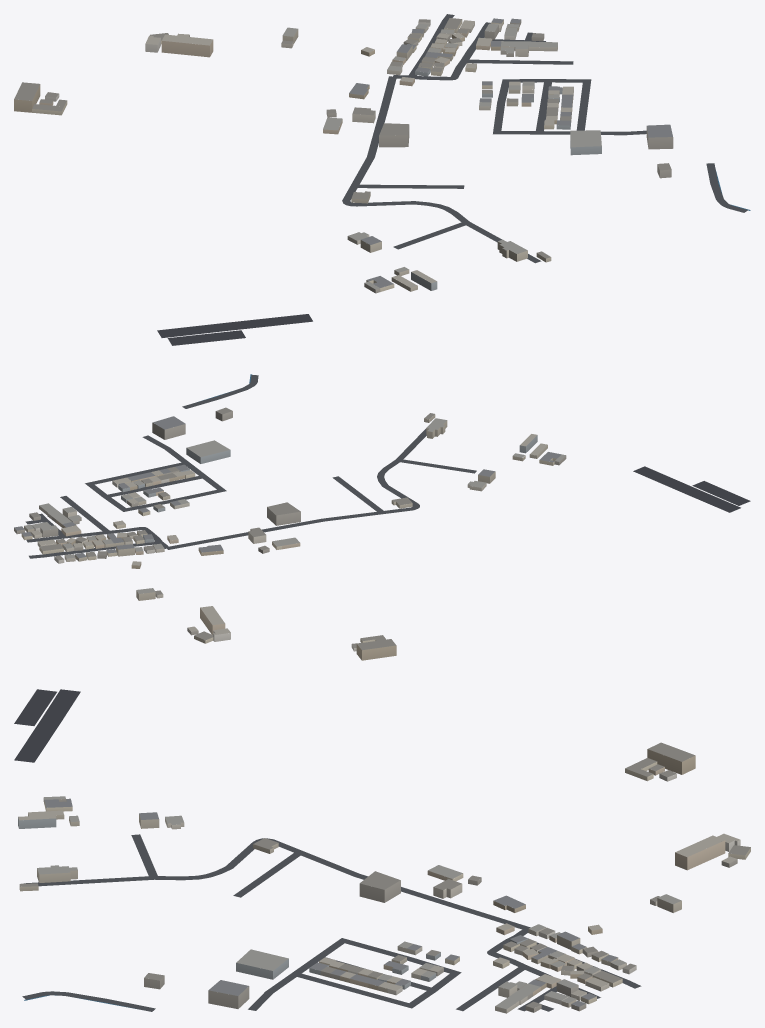
3 renders of one model, top to bottom at view 1: azimuth 30°, elevation 25°; view 2: azimuth 150°, elevation 25°; view 3: azimuth 270°, elevation 25°, orthographic. The views are drawn at different scales.
Parts seen in each view (by area): view 1: buildings_roofs, roads, buildings_walls; view 2: roads, buildings_roofs, buildings_walls; view 3: buildings_roofs, buildings_walls, roads.
Part boxes in pixels (x1,y1,x2,y2): buildings_roofs: (14,18,672,289); roads: (157,14,747,345); buildings_walls: (14,19,673,293); roads: (25,375,750,558); buildings_roofs: (14,407,565,650); buildings_walls: (14,411,566,660); buildings_roofs: (18,742,750,1009); buildings_walls: (18,749,750,1013); roads: (14,689,641,1011).
Bounding box in the file's own units: 507 × 9.58 × 487.
